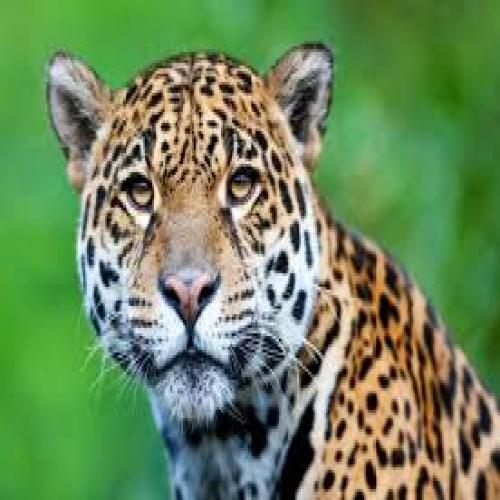jaguar_not-endangered: (79, 51, 465, 500)
